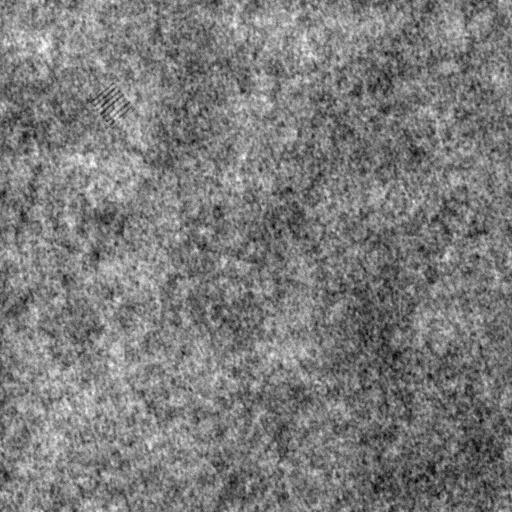DefectTypeB: (88, 82, 136, 123)
